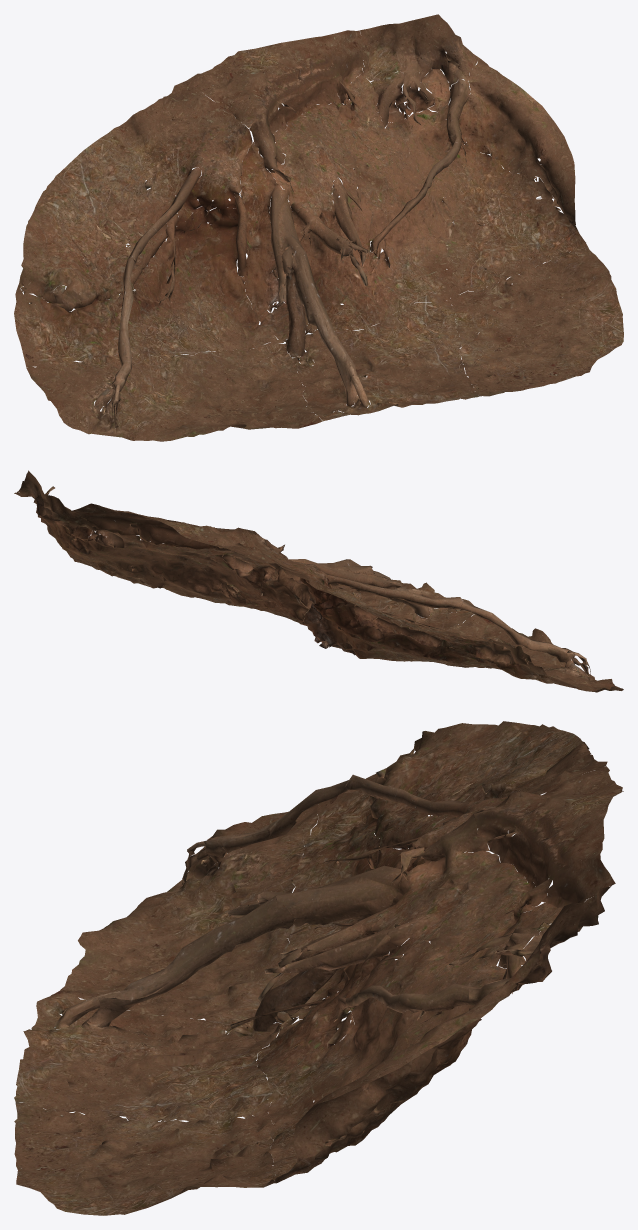
Rendered from root_cluster_01.glb.
3 views of the same model, one above another, from view 1: azimuth 30°, elevation 25°; view 2: azimuth 150°, elevation 25°; view 3: azimuth 270°, elevation 25° (orthographic). The views are drawn at different scales.
Visible parts, largest first — view 1: root_cluster_01_0; view 2: root_cluster_01_0; view 3: root_cluster_01_0.
Boxes of the visible parts, box(x1,y1,x2,y2) form: root_cluster_01_0: box(14, 14, 623, 441); root_cluster_01_0: box(14, 470, 623, 692); root_cluster_01_0: box(14, 721, 623, 1215).
Size of the model in its own units: 4.12 by 1.51 by 2.69.
Materials: 1 (1 with a texture image).
